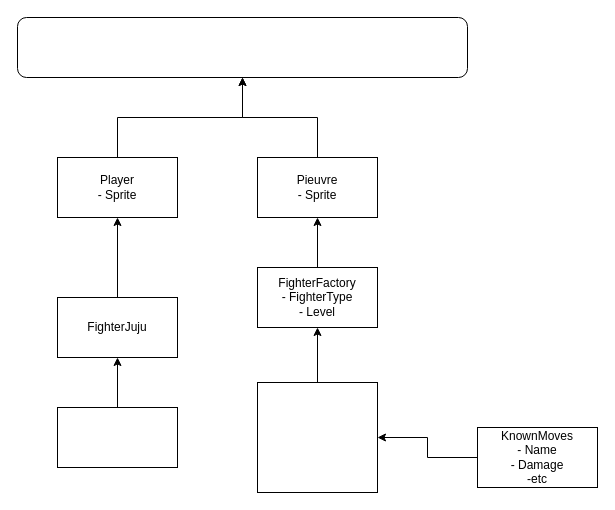
The diagram is 615 pixels wide and 510 high, and some of its shapes have lost their labels. The box of each missing label's shape, as (x1, y1, x2, y2) in pixels:
FighterPieuvreFactory - Generate(int level) - StatsArray (perLevel): (256, 382, 378, 492)
KnownMoves: (56, 406, 178, 468)
OnCollision collider.GetComponent<FightFactory>.GenerateOpponent: (16, 16, 468, 78)
